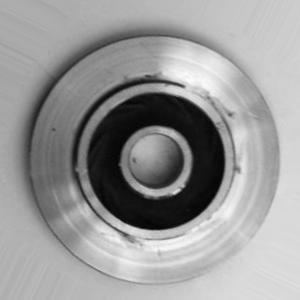defect: (83, 64, 246, 259)
